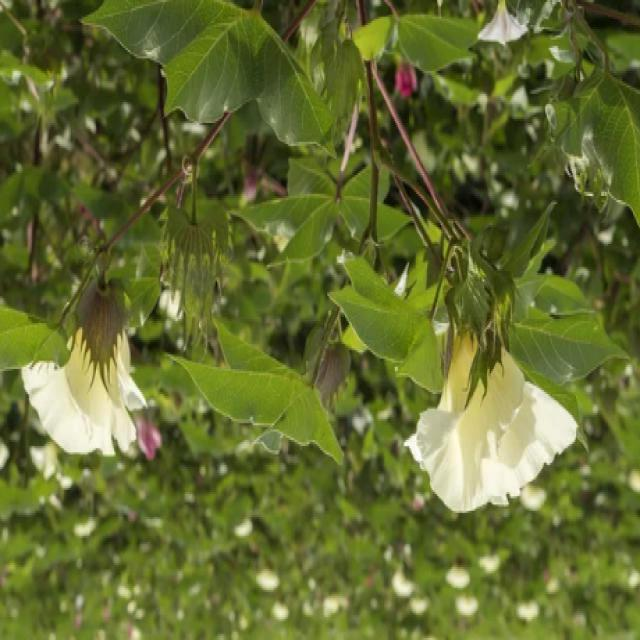Cotton Blossom: (399, 299, 577, 522), (16, 270, 148, 469), (470, 0, 530, 47), (392, 51, 418, 107)
Cotton Bud: (158, 184, 232, 375), (307, 23, 364, 158), (305, 326, 354, 418)
